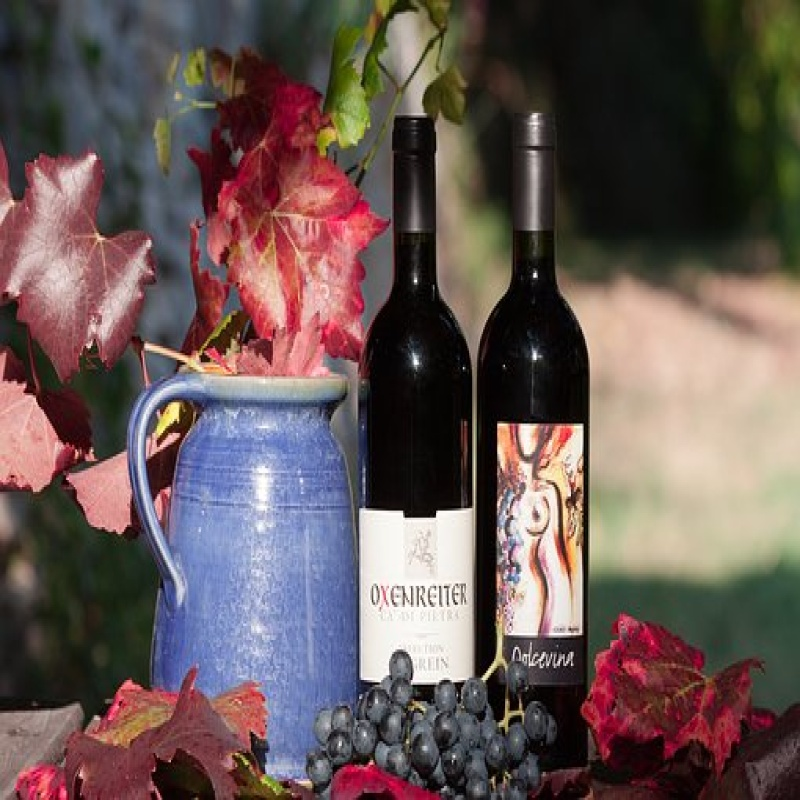wine: (341, 115, 486, 749), (494, 111, 589, 746)
